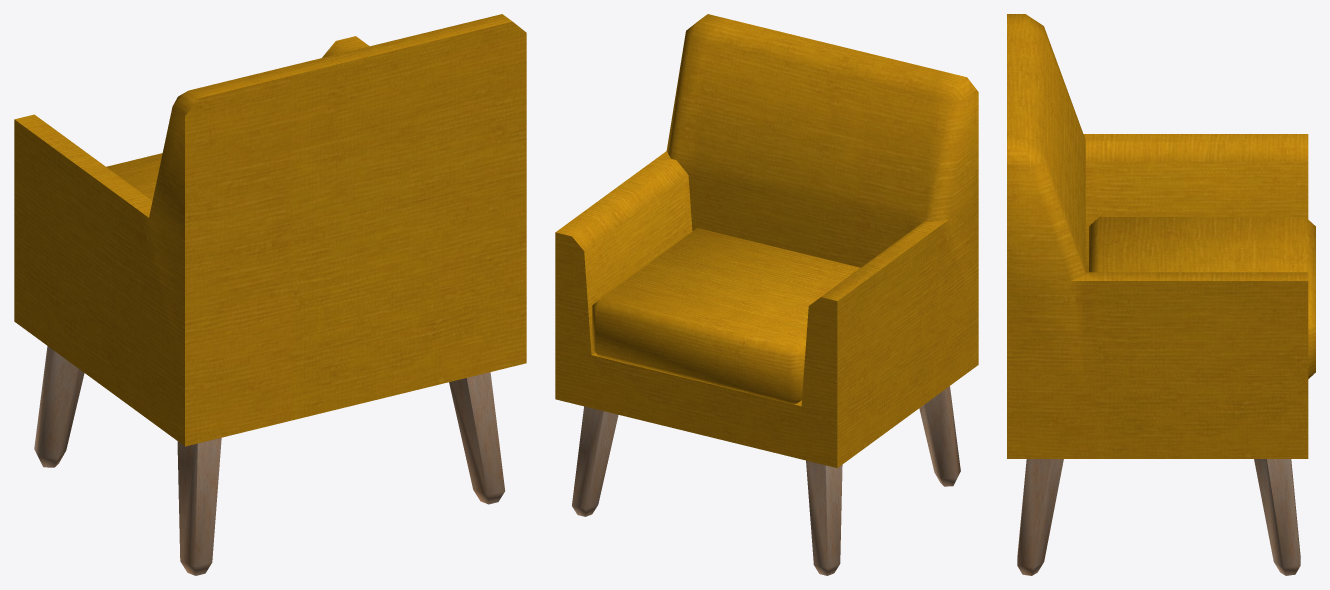
Rendered from Armchair_06.glb.
The picture shows the model from 3 angles, left to right: view 1: azimuth 30°, elevation 25°; view 2: azimuth 150°, elevation 25°; view 3: azimuth 270°, elevation 25°; orthographic projection. The views are drawn at different scales.
Parts seen in each view (by area): view 1: Armchair_06; view 2: Armchair_06; view 3: Armchair_06.
Boxes of the visible parts, x1=… form: Armchair_06: x1=14, y1=14, x2=526, y2=575; Armchair_06: x1=555, y1=14, x2=978, y2=575; Armchair_06: x1=1007, y1=14, x2=1315, y2=575.
Size of the model in its own units: 0.8003 by 1.09 by 0.711.
Materials: 2 (2 with a texture image).
